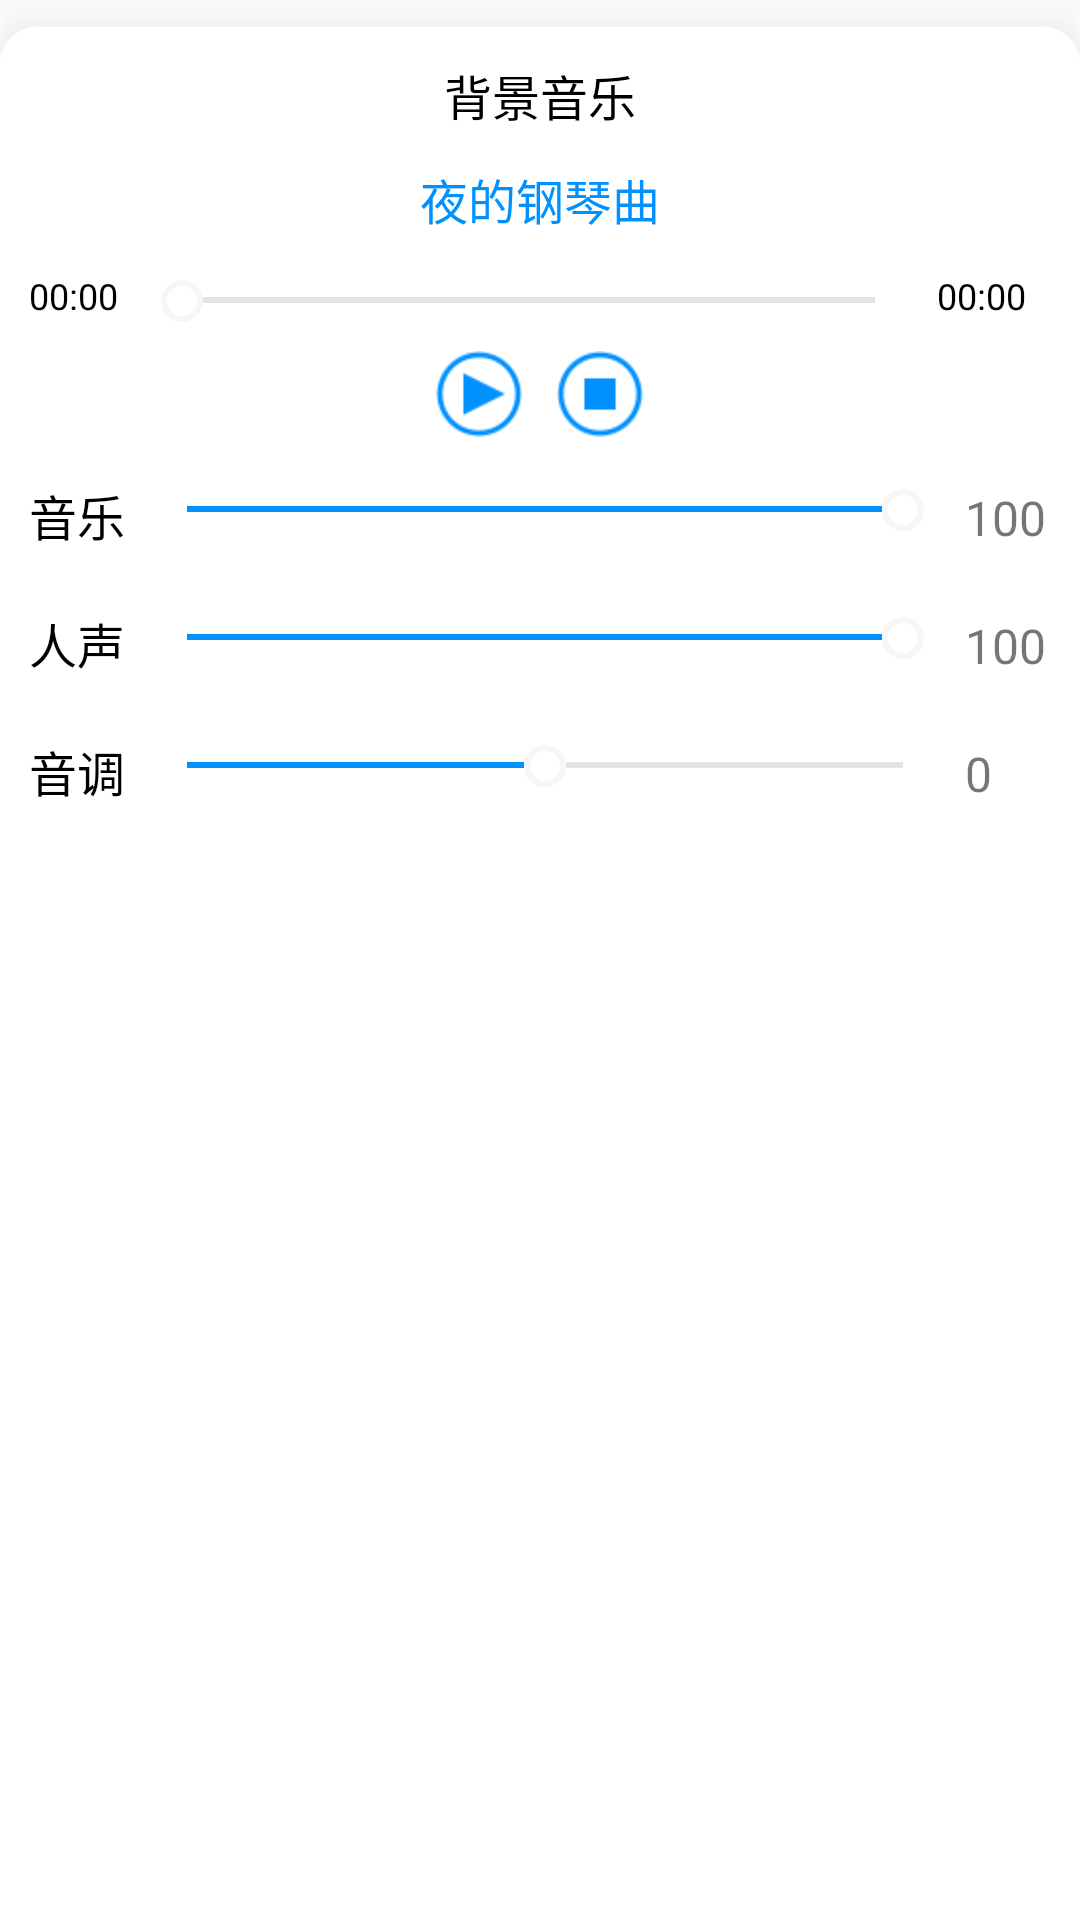

Screen size 1080px×1920px. Icon name, then its center in pixels as point (x, y):
play: point (479, 394)
stop: point (600, 394)
